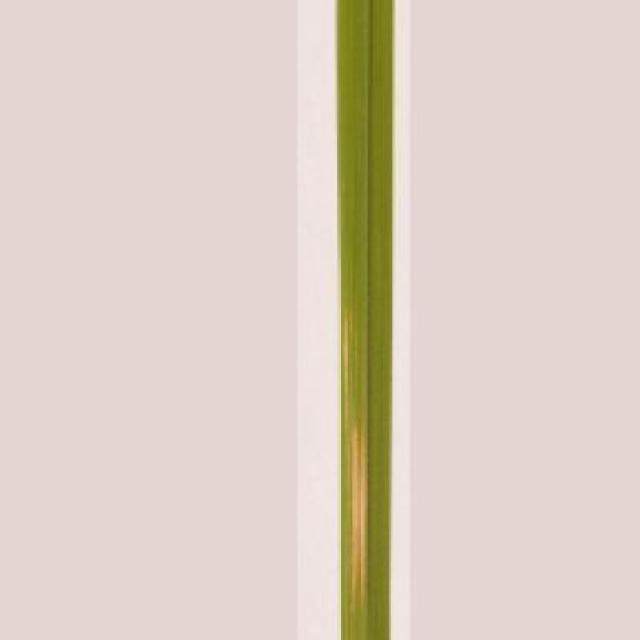Brown_Spot: (334, 0, 400, 640)
